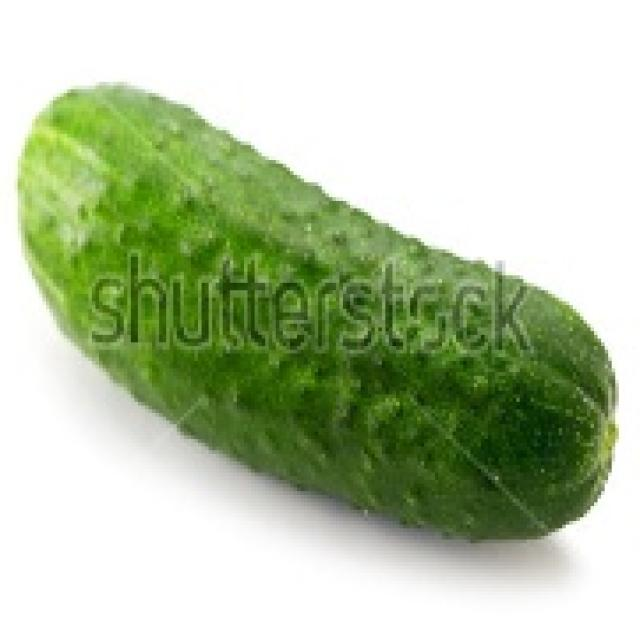cucumber: (14, 74, 608, 566)
